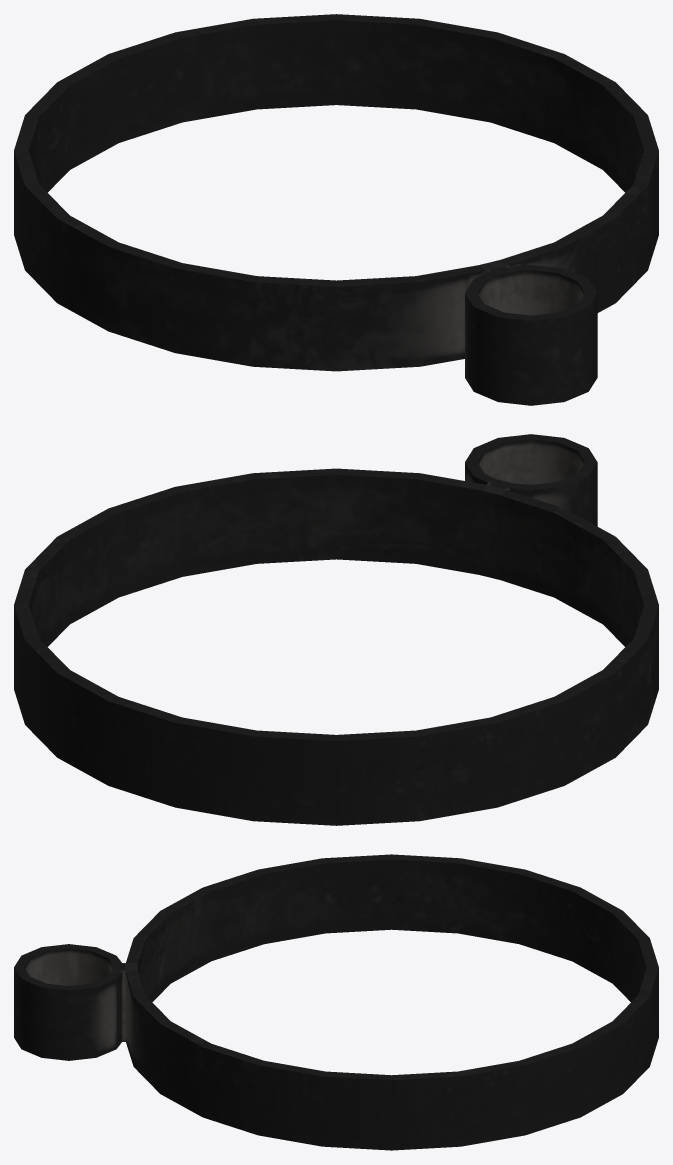
Rendered from SM_FireExtinguisher_Part_03.FBX.
The picture shows the model from 3 angles, top to bottom: view 1: azimuth 30°, elevation 25°; view 2: azimuth 150°, elevation 25°; view 3: azimuth 270°, elevation 25°; orthographic projection. The views are drawn at different scales.
Visible parts, largest first — view 1: SM_FireExtinguisher_Part_03_LOD0; view 2: SM_FireExtinguisher_Part_03_LOD0; view 3: SM_FireExtinguisher_Part_03_LOD0.
Boxes of the visible parts, <box> form: SM_FireExtinguisher_Part_03_LOD0: <box>14,14,658,405</box>; SM_FireExtinguisher_Part_03_LOD0: <box>14,434,658,825</box>; SM_FireExtinguisher_Part_03_LOD0: <box>14,854,658,1150</box>.
Bounding box in the file's own units: 18.28 × 22.06 × 2.66.
